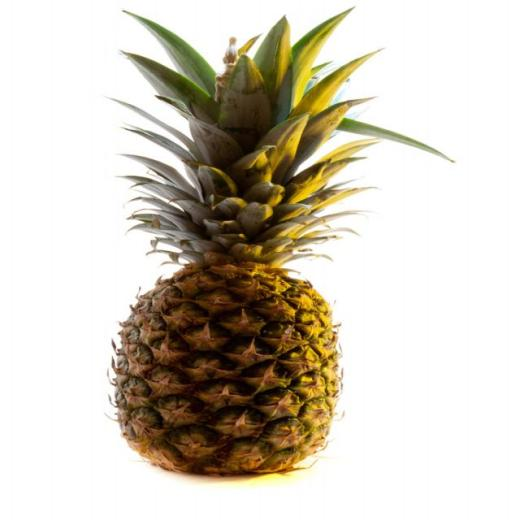Mango: (100, 6, 457, 477)
